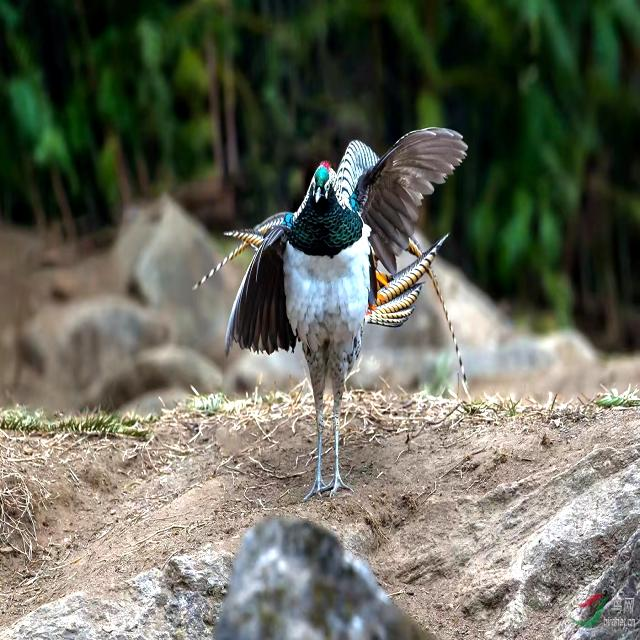Chrysolophus amherstiae: (192, 212, 294, 289), (366, 235, 448, 326), (429, 267, 469, 398), (335, 140, 379, 214)
